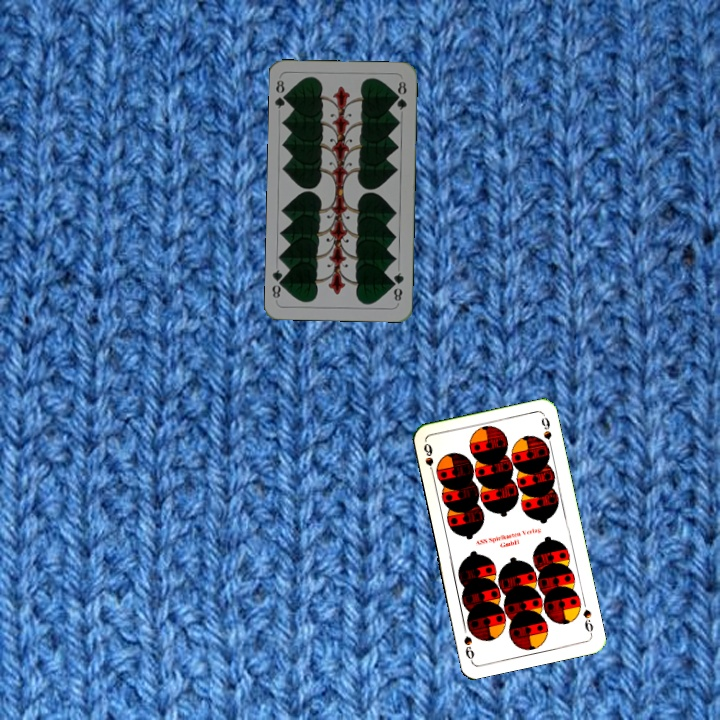G8: (272, 76, 291, 111), (389, 269, 407, 304)
S9: (420, 439, 437, 479), (579, 605, 596, 637)
